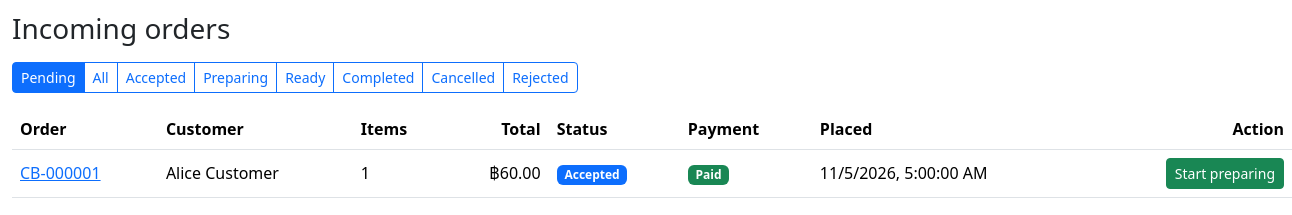
Test: OperatorOrders fulfilment actions (AC-86) › TEST-86: Start preparing reloads the list when the active filter no longer matches
Expected: the link "CB-000001" is shown, [20,162,101,184]
Click the button "Accepted".
click(156, 77)  # box [117,62,195,93]
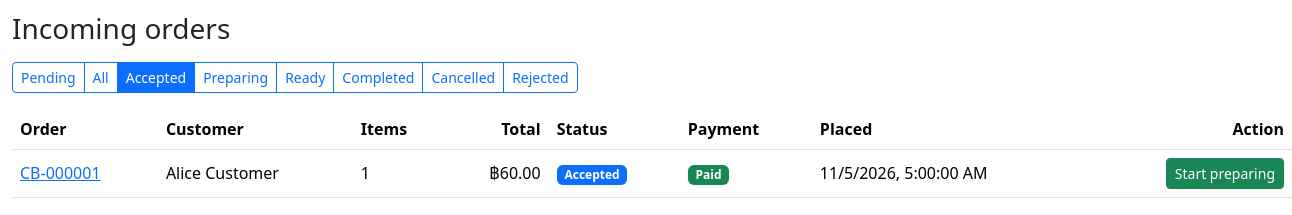
Click the button "Start preparing".
click(1225, 173)  # box [1166,158,1284,189]
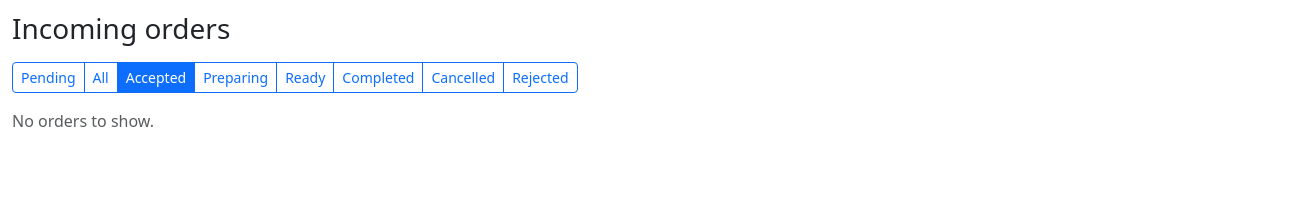
Now the text "No orders to show." is shown, box [12,110,154,132]
